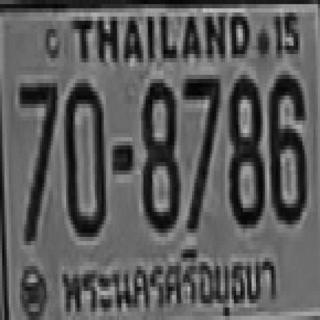N00: (64, 79, 104, 233)
N06: (267, 71, 304, 220)
N07: (19, 79, 56, 241), (181, 73, 218, 226)
N08: (141, 79, 179, 228), (227, 75, 263, 224)
